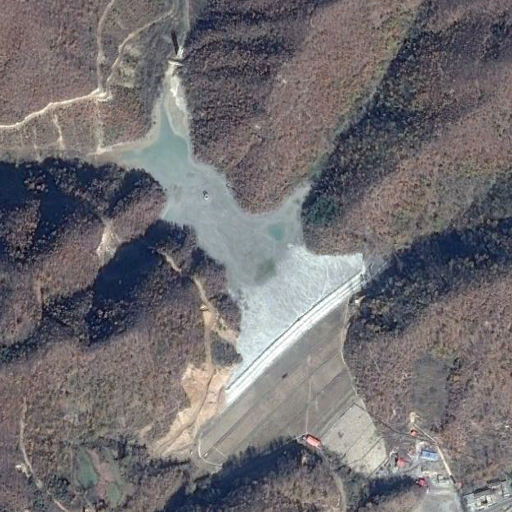tp: (102, 92, 387, 478)
